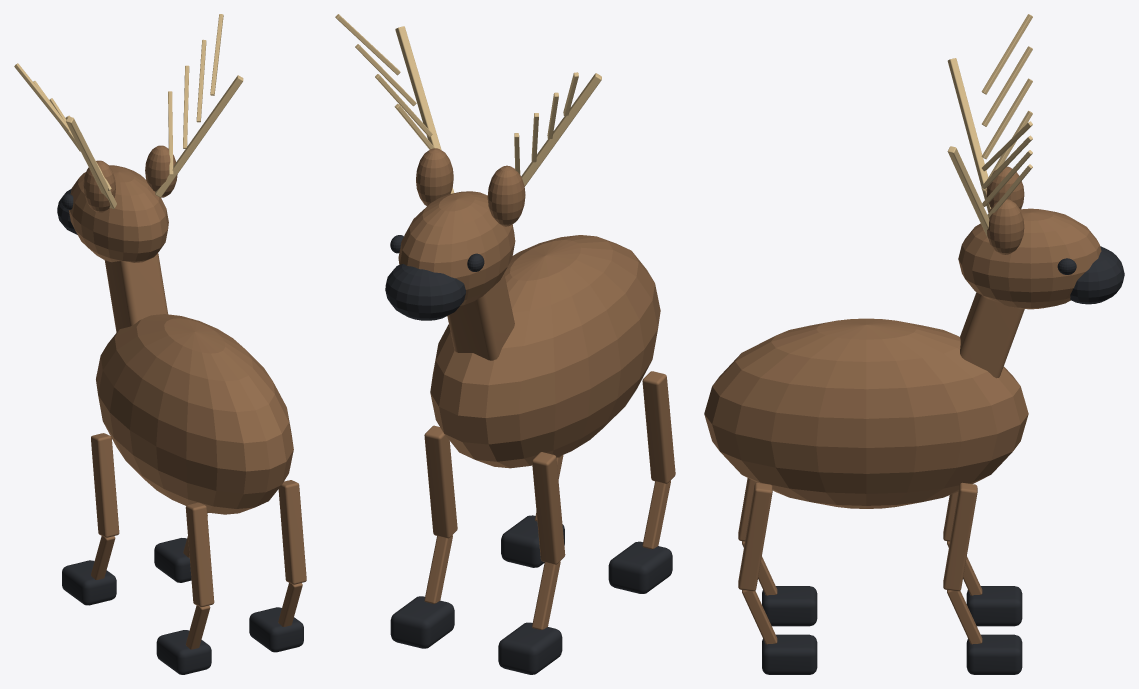
Rendered from reindeer.glb.
3 renders of one model, left to right at view 1: azimuth 30°, elevation 25°; view 2: azimuth 150°, elevation 25°; view 3: azimuth 270°, elevation 25°, orthographic. The views are drawn at different scales.
Visible parts, largest first — view 1: brown, sand, brown.003, brown.001, brown.004, dark.003, dark.001, dark.004, dark.002, dark; view 2: brown, sand, dark, brown.003, brown.001, brown.002, dark.001, dark.002, dark.003, dark.004; view 3: brown, sand, brown.002, brown.004, dark, dark.002, dark.004, dark.001, dark.003, brown.003, brown.001.
Part boxes in pixels (left/top/right/bottom): brown: left=69, top=145, right=293, bottom=514; sand: left=14, top=14, right=243, bottom=208; brown.003: left=185, top=502, right=214, bottom=649; brown.001: left=91, top=433, right=119, bottom=579; brown.004: left=278, top=480, right=306, bottom=626; dark.003: left=156, top=630, right=211, bottom=674; dark.001: left=62, top=560, right=116, bottom=605; dark.004: left=249, top=607, right=303, bottom=652; dark.002: left=154, top=538, right=191, bottom=582; dark: left=57, top=189, right=77, bottom=234; brown: left=398, top=148, right=660, bottom=468; sand: left=335, top=14, right=601, bottom=193; dark: left=385, top=235, right=484, bottom=320; brown.003: left=642, top=371, right=675, bottom=549; brown.001: left=532, top=452, right=565, bottom=629; brown.002: left=424, top=425, right=457, bottom=603; dark.001: left=498, top=622, right=562, bottom=674; dark.002: left=390, top=596, right=454, bottom=648; dark.003: left=608, top=541, right=672, bottom=593; dark.004: left=501, top=515, right=564, bottom=567; brown: left=704, top=166, right=1101, bottom=508; sand: left=947, top=14, right=1032, bottom=239; brown.002: left=943, top=482, right=982, bottom=644; brown.004: left=738, top=482, right=777, bottom=644; dark: left=1057, top=246, right=1124, bottom=304; dark.002: left=966, top=634, right=1022, bottom=674; dark.004: left=762, top=634, right=817, bottom=674; dark.001: left=966, top=586, right=1022, bottom=626; dark.003: left=762, top=586, right=817, bottom=626; brown.003: left=738, top=478, right=777, bottom=595; brown.001: left=943, top=492, right=982, bottom=595.
Bounding box in the file's own units: 1.22 × 2.98 × 1.97.
